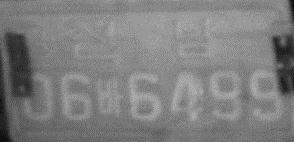0: (22, 72, 56, 122)
4: (167, 70, 202, 122)
6: (127, 70, 162, 123), (59, 70, 93, 121)
9: (247, 67, 283, 122), (208, 69, 244, 121)
바: (95, 76, 123, 118)
영: (17, 24, 58, 63)
전남_D: (69, 16, 216, 60)
